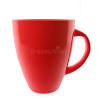cup: (12, 18, 91, 93)
